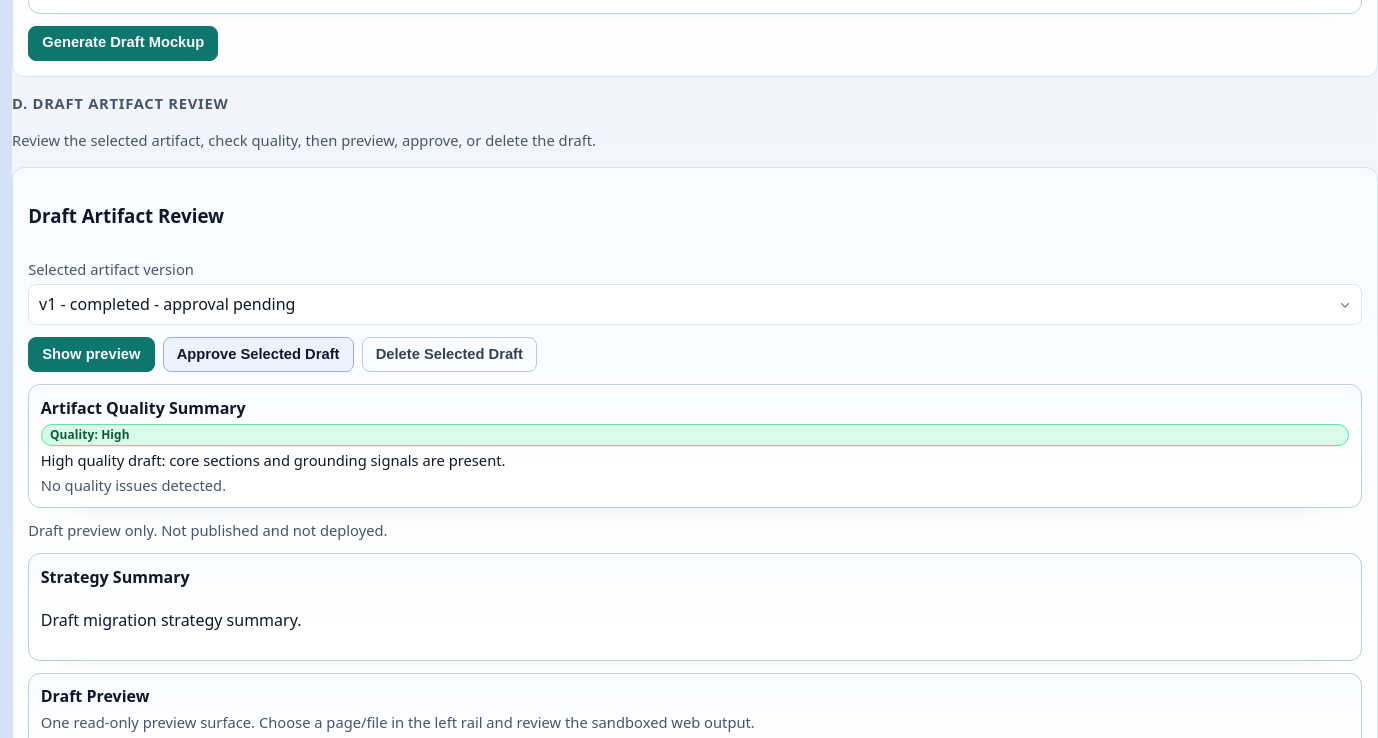
site migration workflow route › supports deleting an eligible selected draft artifact
(page scrolled)
Click the button with test id "migration-delete-draft-button": [449, 354] box [362,337,537,372]
(page scrolled)
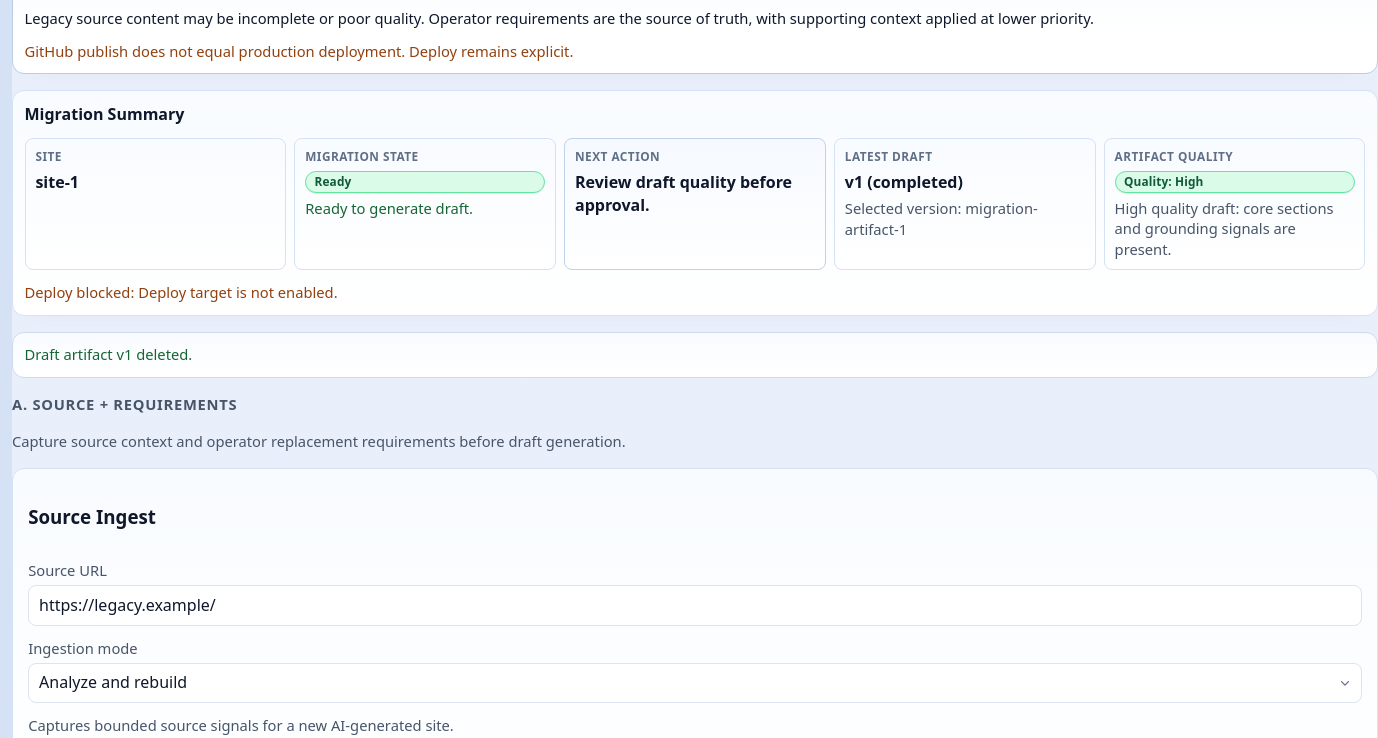
Expected: the text "Draft artifact v1 deleted." is shown, [24,344,192,364]
